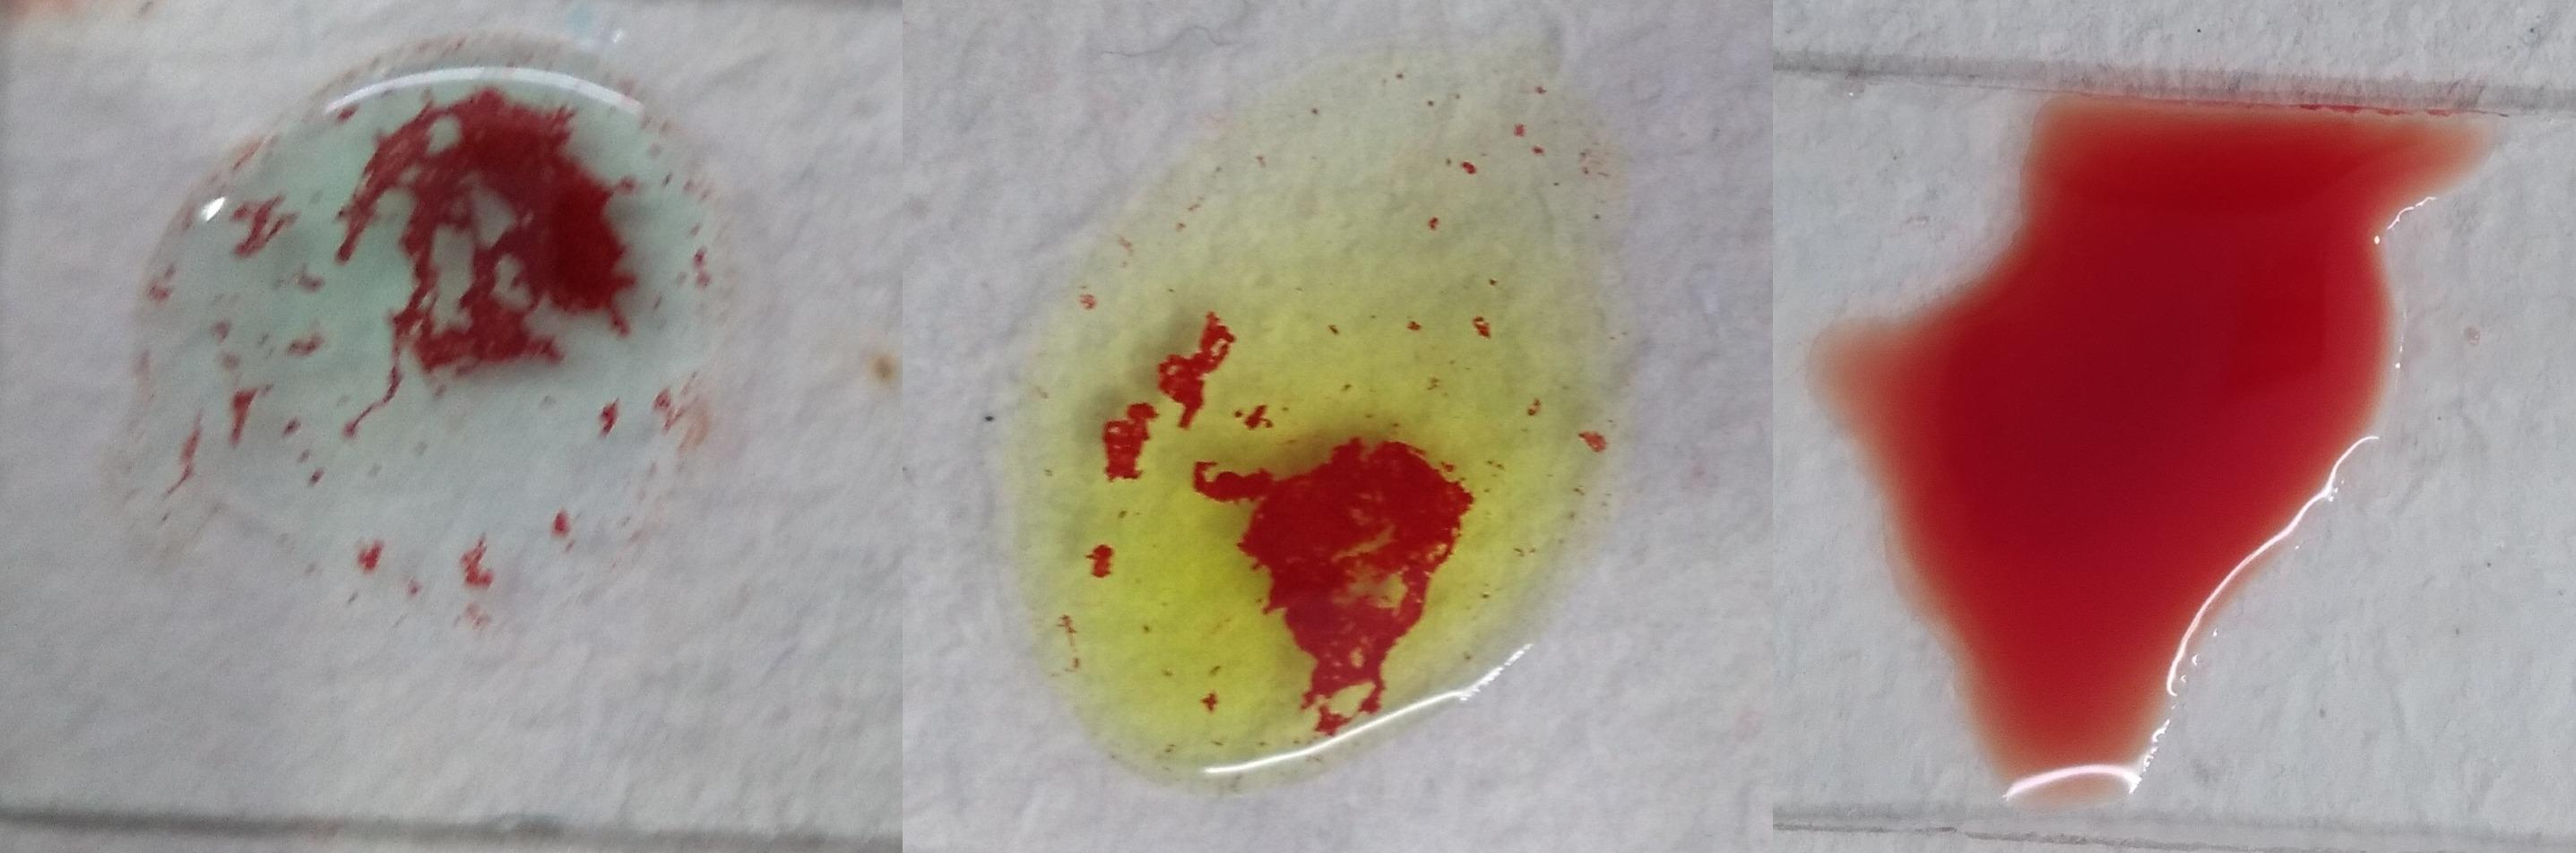A: (140, 36, 744, 628)
B: (992, 85, 1600, 779)
